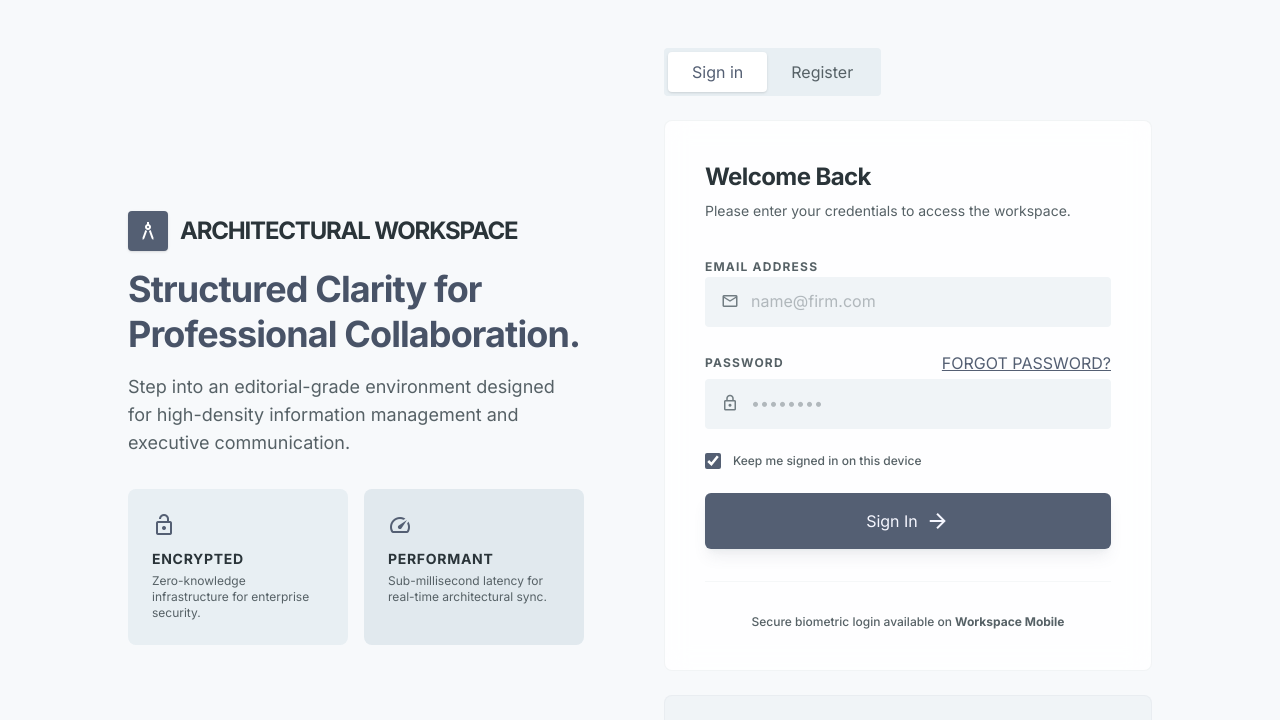
Scenario: AuthenticationPageComponent › Forgot password flow › clicking the forgot-password button switches to forgot-password mode and shows the email form
Click the button with test id "forgot-password-link" at (1026, 363), box [942, 351, 1111, 375]
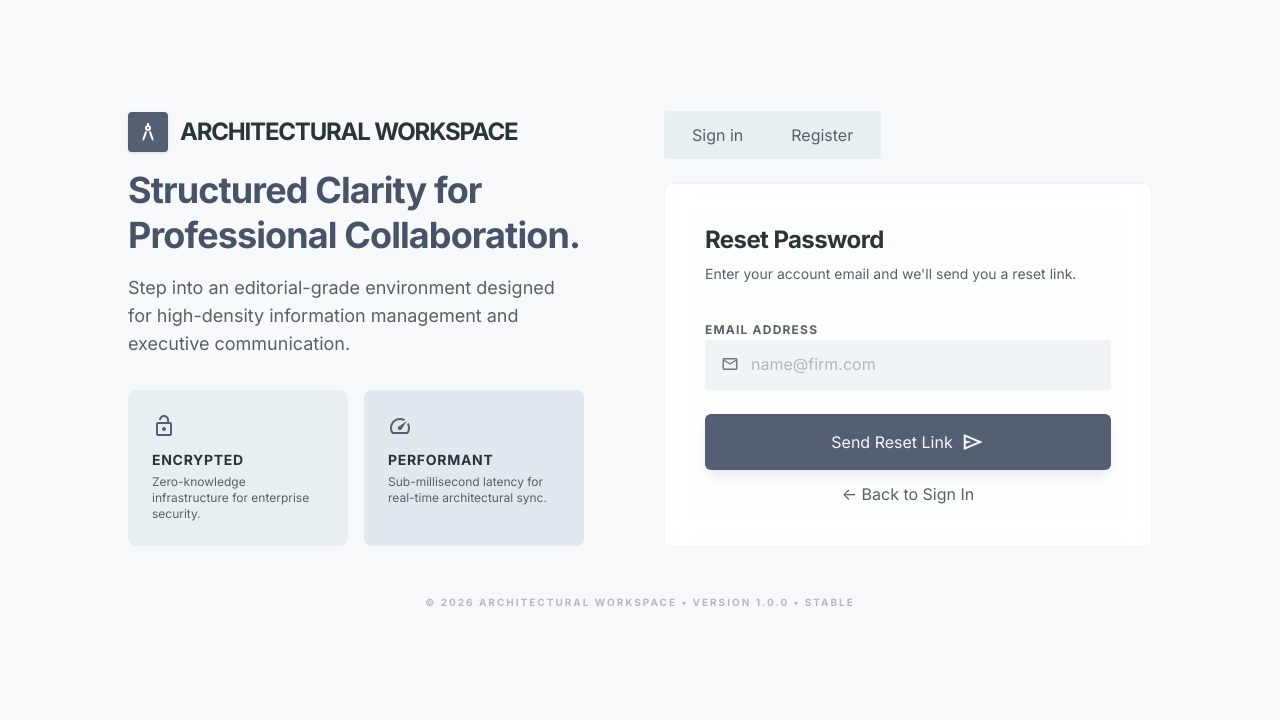
Expected: the field with test id "forgot-email" is shown, [751, 352, 1095, 376]
Expected: the button with test id "forgot-submit" is shown, [705, 414, 1111, 470]
